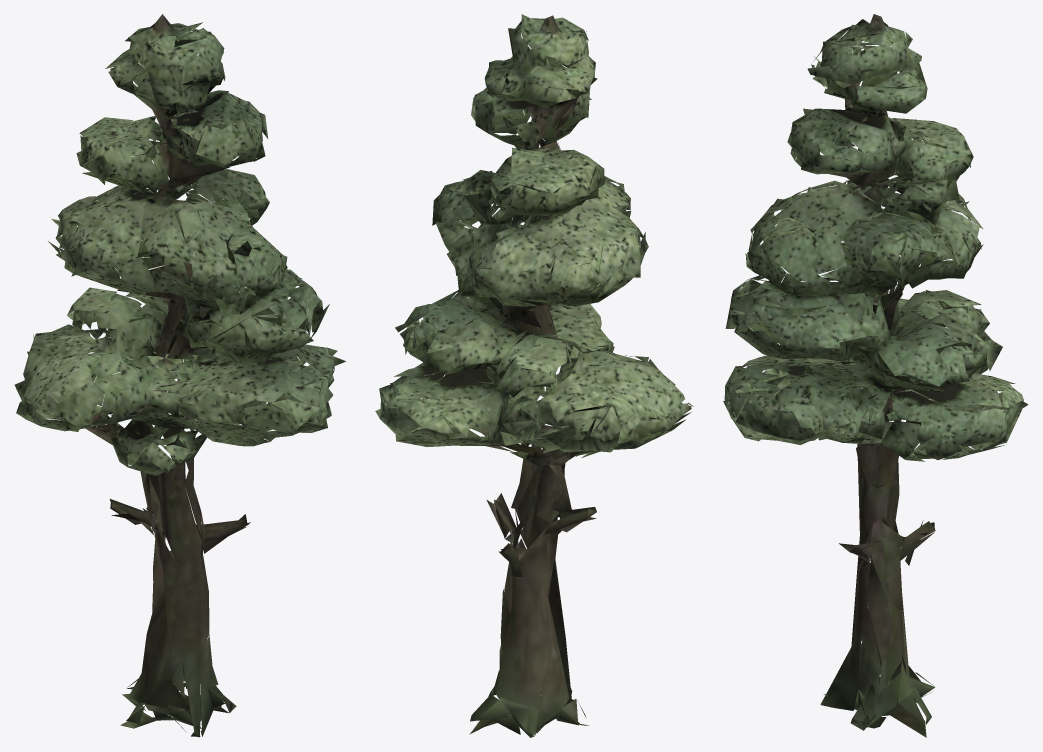
File: tree_tall_b_meshy_l50.glb
3 renders of one model, left to right at view 1: azimuth 30°, elevation 25°; view 2: azimuth 150°, elevation 25°; view 3: azimuth 270°, elevation 25°, orthographic. The views are drawn at different scales.
Parts seen in each view (by area): view 1: tree_tall_b_meshy_lod0; view 2: tree_tall_b_meshy_lod0; view 3: tree_tall_b_meshy_lod0.
Boxes of the visible parts, x1,y1,x2,y2 form: tree_tall_b_meshy_lod0: (14, 14, 345, 737); tree_tall_b_meshy_lod0: (375, 14, 693, 737); tree_tall_b_meshy_lod0: (723, 14, 1028, 737).
Size of the model in its own units: 2.01 by 4.72 by 1.88.
1 material, 1 textured.
